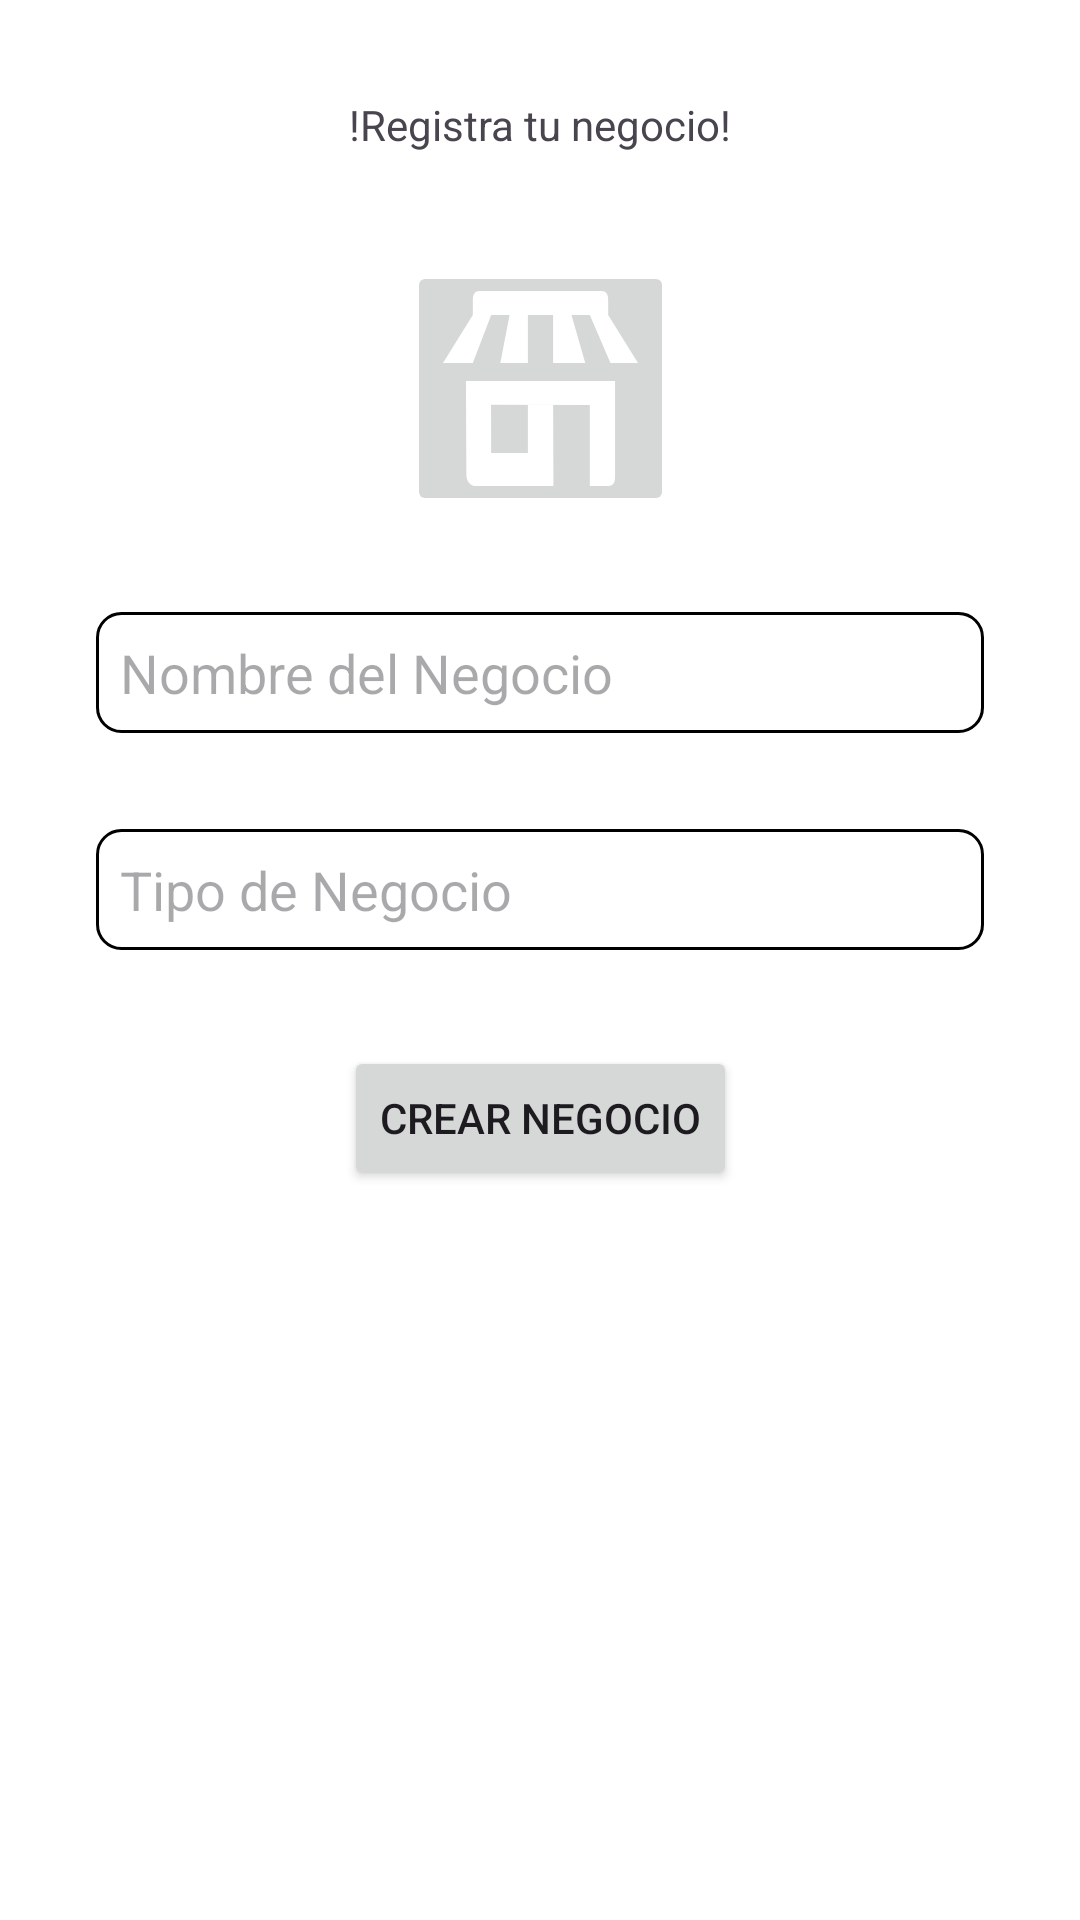

Icon click points for this 1080px×1920px phone screenshot, format point (x, y):
business: point (540, 388)
